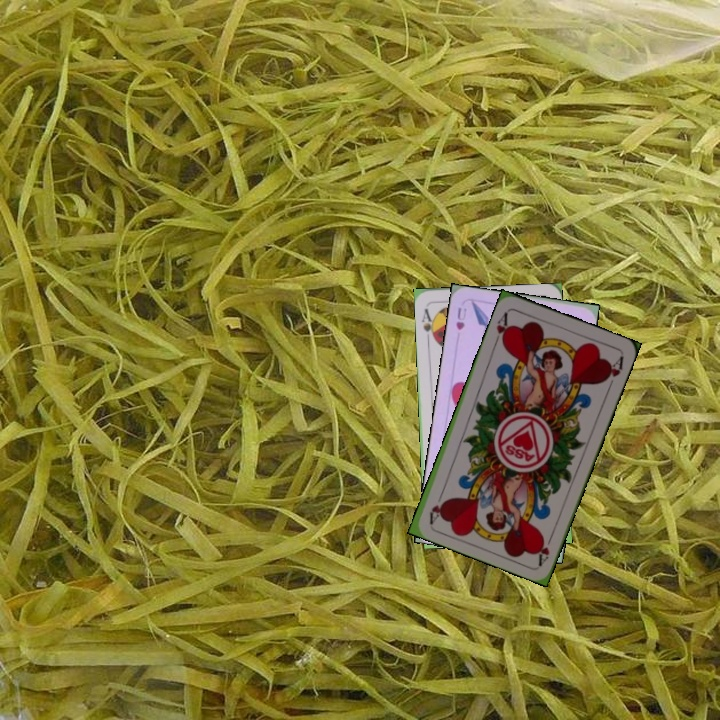HA: (533, 528, 557, 567), (491, 308, 513, 348)
HU: (452, 303, 469, 333)
SA: (418, 304, 438, 344)
